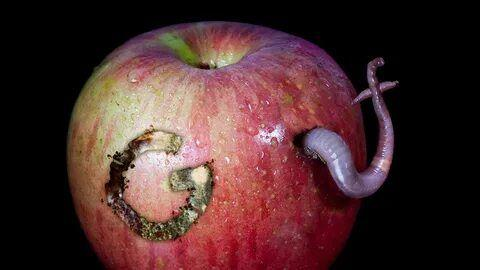Apple: (69, 22, 368, 263)
